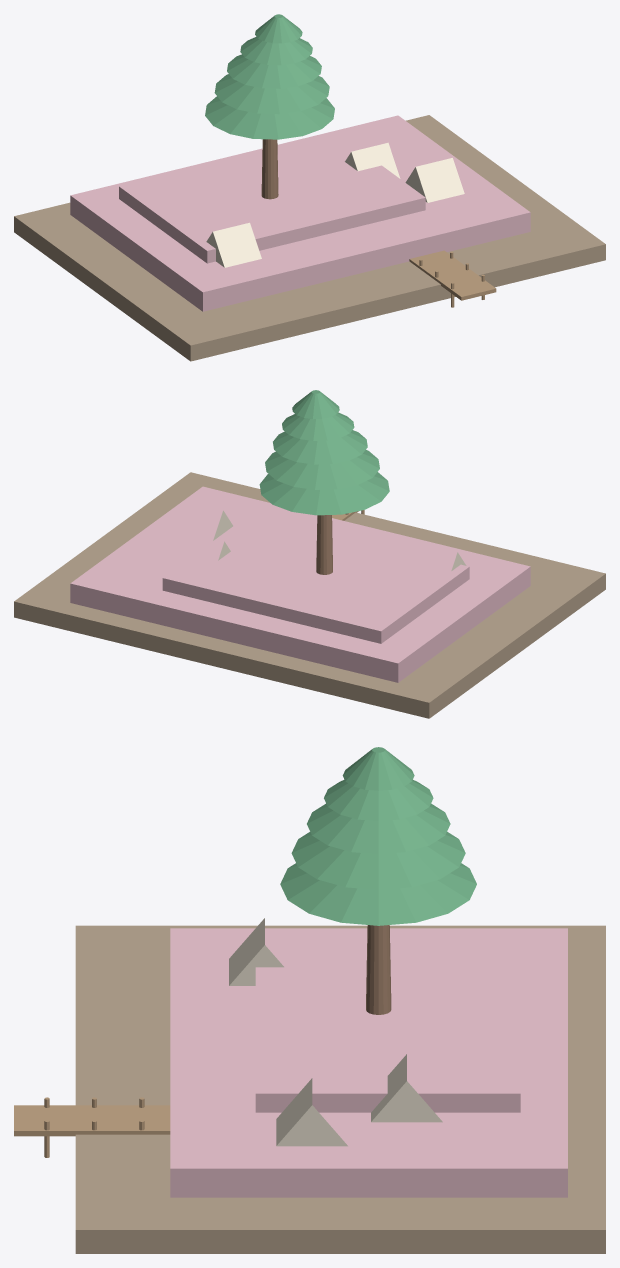
The model's file is lm_106_ban_dao_cay_thong_co_don_ben_camping_ho_suoi_vang_dankia.glb.
3 renders of one model, top to bottom at view 1: azimuth 30°, elevation 25°; view 2: azimuth 150°, elevation 25°; view 3: azimuth 270°, elevation 25°, orthographic. The views are drawn at different scales.
Parts seen in each view (by area): view 1: lm_106_ban_dao_cay_thong_co_don_ben_camping_ho_suoi_vang_dan; view 2: lm_106_ban_dao_cay_thong_co_don_ben_camping_ho_suoi_vang_dan; view 3: lm_106_ban_dao_cay_thong_co_don_ben_camping_ho_suoi_vang_dan.
Part boxes in pixels (x1,y1,x2,y2): lm_106_ban_dao_cay_thong_co_don_ben_camping_ho_suoi_vang_dan: (14, 14, 605, 361); lm_106_ban_dao_cay_thong_co_don_ben_camping_ho_suoi_vang_dan: (14, 390, 605, 718); lm_106_ban_dao_cay_thong_co_don_ben_camping_ho_suoi_vang_dan: (14, 747, 605, 1253).
Bounding box in the file's own units: 38 × 19.7 × 31.25.
